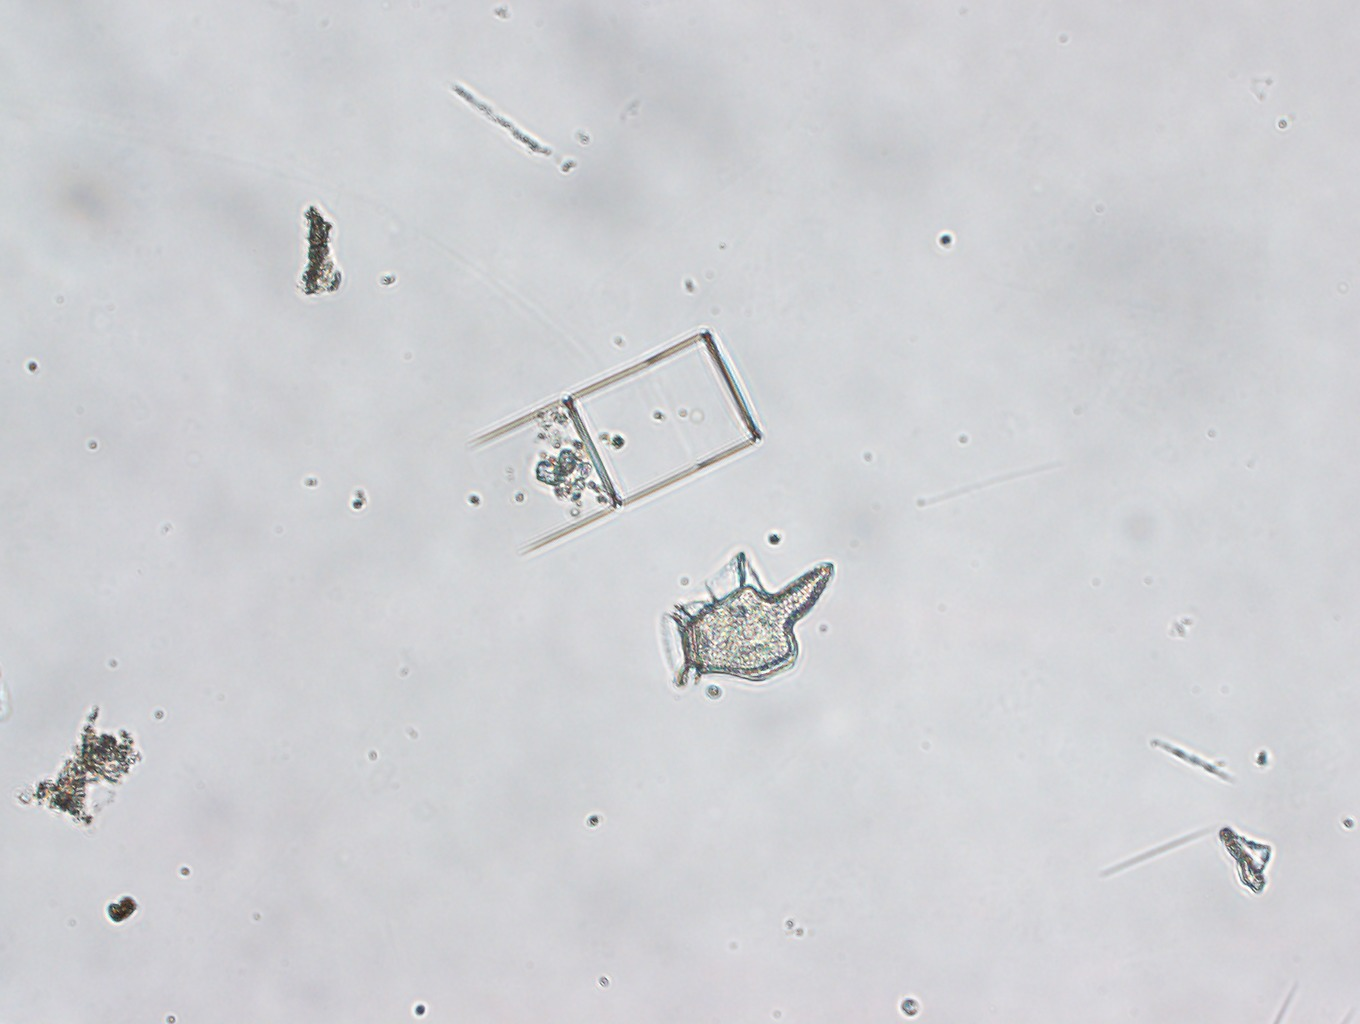dinophysis caudata: (659, 553, 838, 689)
guinardia flaccida: (466, 329, 767, 556)
